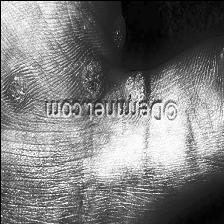Toxin: (78, 59, 104, 97), (120, 72, 152, 99), (7, 72, 28, 102), (109, 13, 123, 46), (218, 42, 224, 77)
